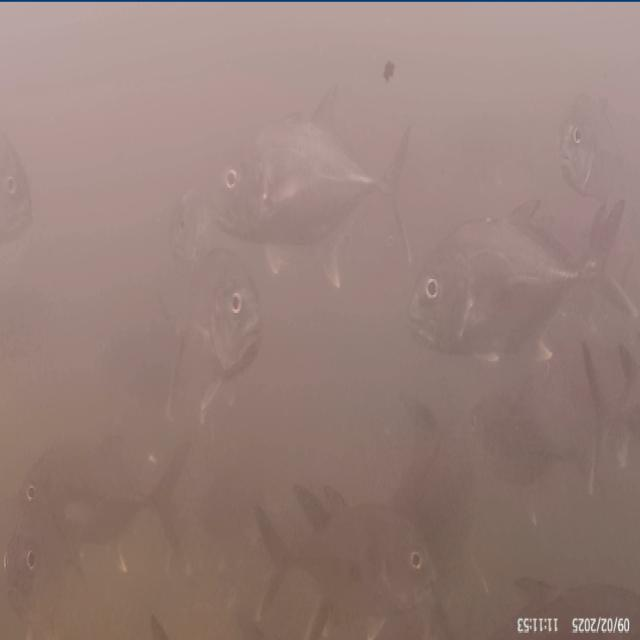ikan: (173, 86, 412, 290), (407, 193, 630, 365), (3, 425, 195, 624), (253, 479, 441, 637), (163, 247, 263, 429)
